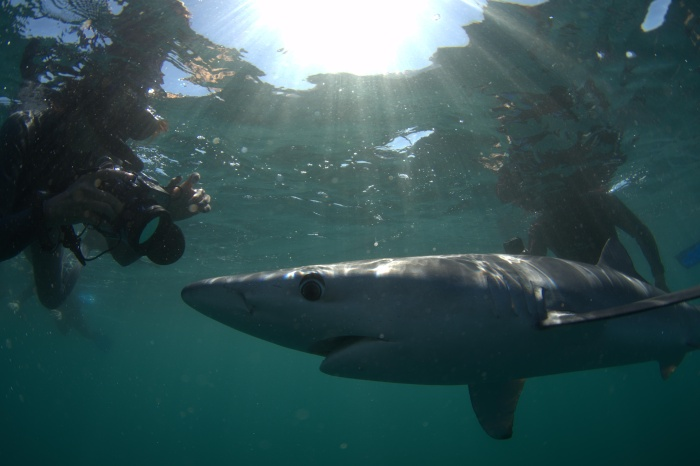Azul: (162, 198, 700, 446)
